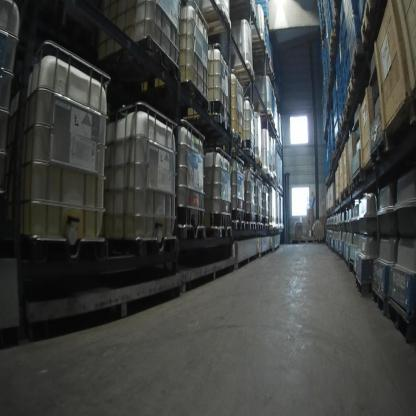pallet: (88, 34, 181, 83), (153, 79, 211, 113), (387, 297, 415, 344), (198, 6, 233, 37), (351, 41, 379, 78), (361, 0, 380, 44), (231, 4, 258, 23), (363, 149, 378, 183), (371, 287, 388, 316), (211, 113, 231, 134), (233, 64, 255, 82), (251, 37, 269, 58), (347, 74, 360, 100), (355, 276, 371, 297), (353, 168, 366, 192), (329, 30, 338, 51), (233, 133, 245, 148), (344, 99, 354, 117), (257, 111, 273, 121), (339, 115, 349, 130), (334, 9, 340, 34), (245, 148, 255, 161), (348, 261, 356, 277), (329, 50, 337, 64), (300, 239, 314, 245), (255, 158, 263, 168), (262, 120, 275, 126), (335, 138, 342, 148), (265, 15, 270, 28), (331, 151, 335, 165), (339, 128, 344, 138), (344, 257, 348, 267), (335, 147, 338, 156), (270, 177, 274, 181), (274, 175, 277, 180), (280, 188, 283, 193)
small_load_carrier: (339, 3, 347, 32), (341, 17, 348, 50), (344, 48, 351, 79), (343, 37, 350, 60), (334, 122, 340, 140), (333, 91, 338, 112), (334, 108, 339, 126), (333, 78, 337, 100)
